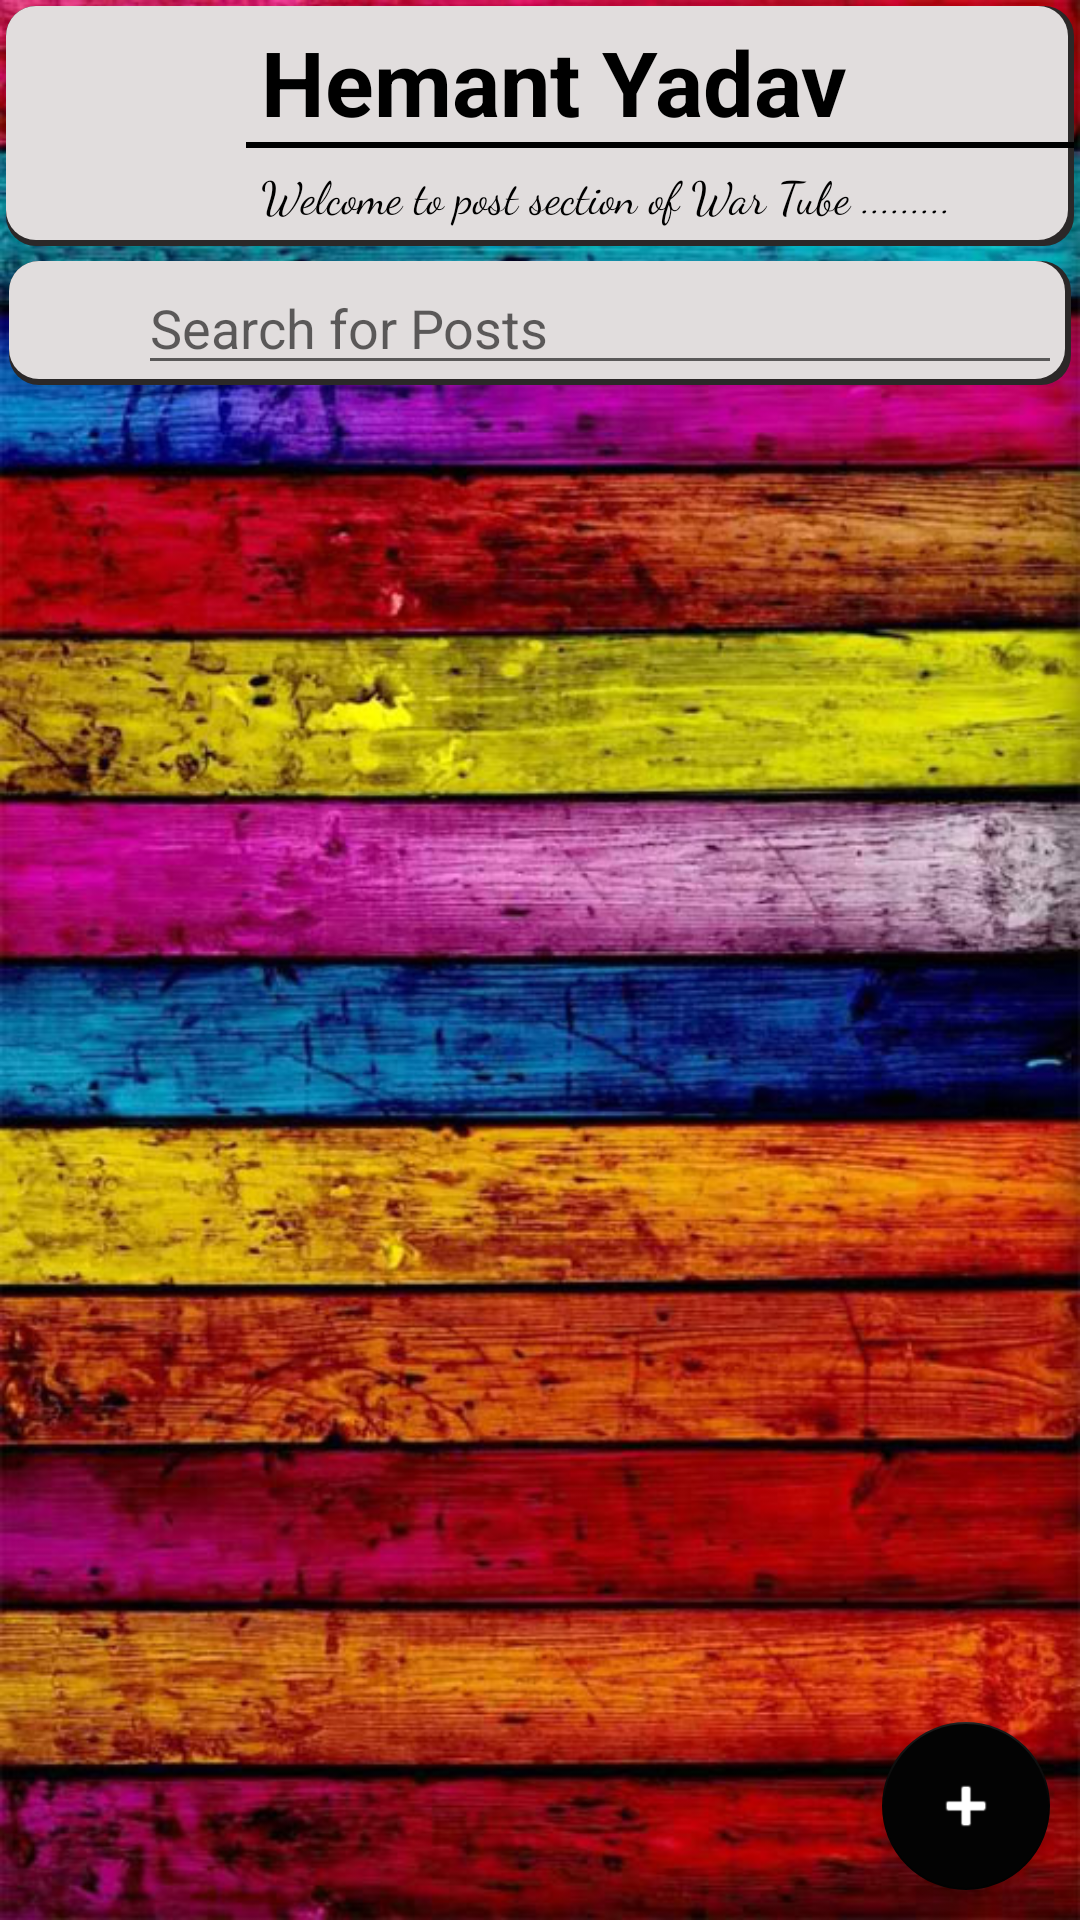

Named icons in this screenshot (1080 x 1920) and their centers, (x=x, y=y):
add: (x=966, y=1806)
